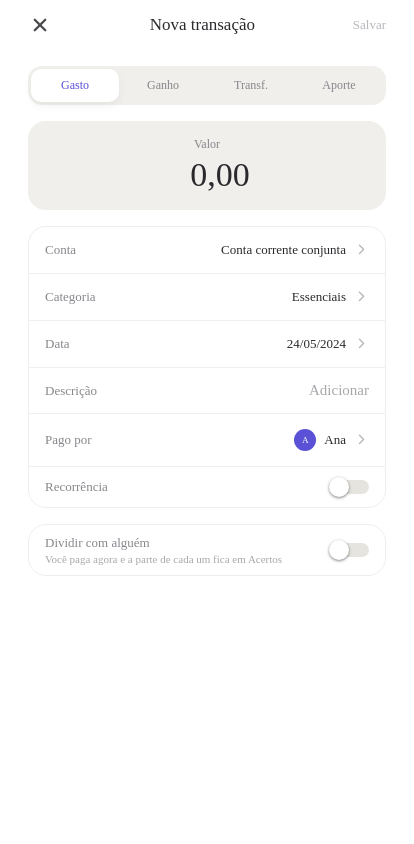
Test: Nova transação › transferência revela o campo de destino
Check: the text "Destino" is not shown
Click the text "Transf.": (251, 86) [234,78,268,93]
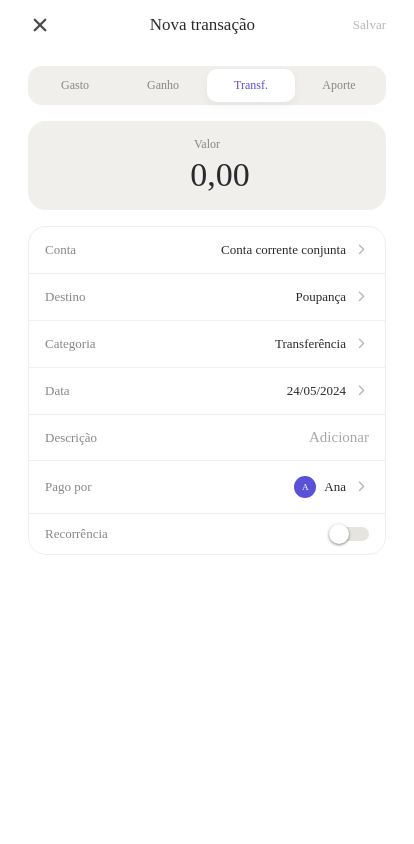
Check: the text "Destino" is shown, box [45,289,86,305]
Check: the text "Poupança" is shown, box [296,289,346,305]
